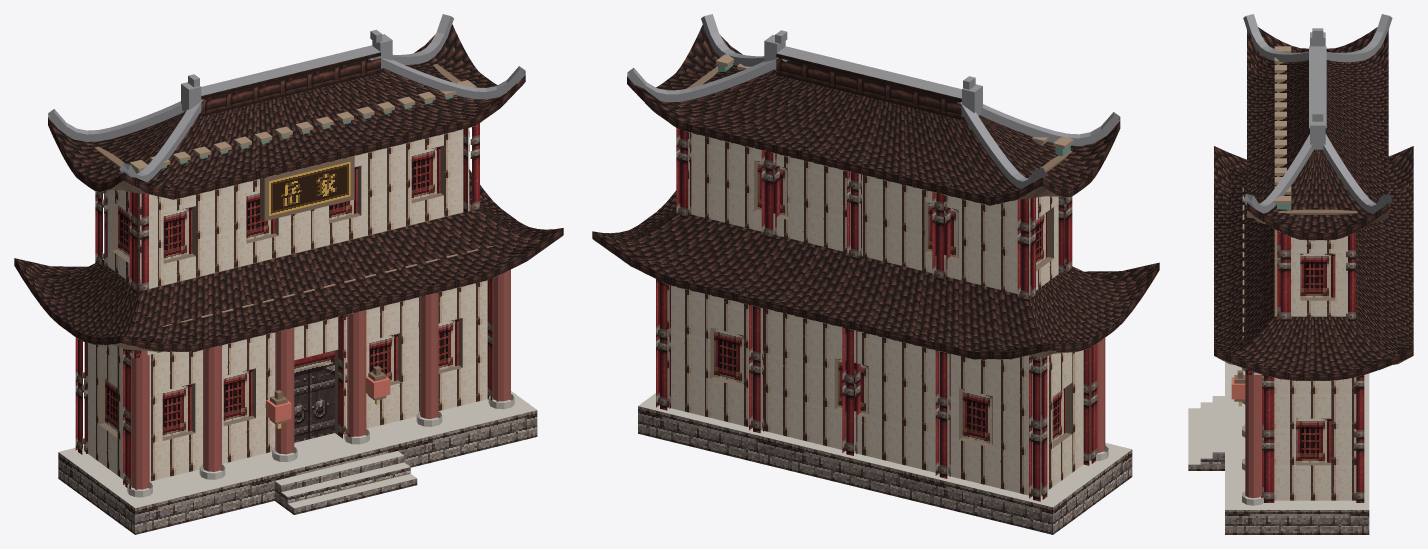
Rendered from g_ak_lodge.glb.
The picture shows the model from 3 angles, left to right: view 1: azimuth 30°, elevation 25°; view 2: azimuth 150°, elevation 25°; view 3: azimuth 270°, elevation 25°; orthographic projection. The views are drawn at different scales.
Visible parts, largest first — view 1: roof, plaster, col, stone, stonetop, win, ridgeend, eave, post, ridge, reveal, door (+5 smaller); view 2: plaster, roof, post, stone, ridgeend, eave, win, stonetop, ridge, reveal, col, under; view 3: roof, plaster, stonetop, ridgeend, post, stone, win, eave, col, woodl, wood, under (+1 smaller).
Part boxes in pixels (bbox=[...]): roof: bbox=[14, 24, 562, 344]; plaster: bbox=[84, 128, 487, 481]; col: bbox=[131, 269, 510, 489]; stone: bbox=[58, 410, 537, 534]; stonetop: bbox=[59, 391, 536, 508]; win: bbox=[105, 146, 458, 437]; ridgeend: bbox=[48, 14, 525, 182]; eave: bbox=[14, 75, 563, 351]; post: bbox=[75, 123, 498, 489]; ridge: bbox=[200, 52, 380, 116]; reveal: bbox=[99, 145, 462, 440]; door: bbox=[294, 350, 334, 442]; plaster: bbox=[667, 132, 1083, 496]; roof: bbox=[593, 24, 1158, 351]; post: bbox=[656, 128, 1097, 501]; stone: bbox=[638, 406, 1132, 534]; ridgeend: bbox=[627, 14, 1120, 188]; eave: bbox=[592, 77, 1159, 359]; win: bbox=[714, 161, 1065, 444]; stonetop: bbox=[638, 393, 1131, 507]; ridge: bbox=[776, 53, 962, 119]; reveal: bbox=[710, 160, 1072, 447]; col: bbox=[1089, 338, 1105, 452]; under: bbox=[593, 85, 1159, 359]; roof: bbox=[1214, 27, 1413, 373]; plaster: bbox=[1274, 236, 1356, 500]; stonetop: bbox=[1188, 362, 1369, 509]; ridgeend: bbox=[1243, 14, 1392, 213]; post: bbox=[1261, 231, 1364, 502]; stone: bbox=[1188, 452, 1369, 534]; win: bbox=[1296, 253, 1335, 462]; eave: bbox=[1214, 203, 1413, 380]; col: bbox=[1245, 369, 1261, 498]; woodl: bbox=[1242, 46, 1291, 339]; wood: bbox=[1234, 209, 1357, 401]; under: bbox=[1214, 210, 1410, 380].
Bounding box in the file's own units: 86.83 × 73.97 × 40.69.
20 materials, 10 textured.
